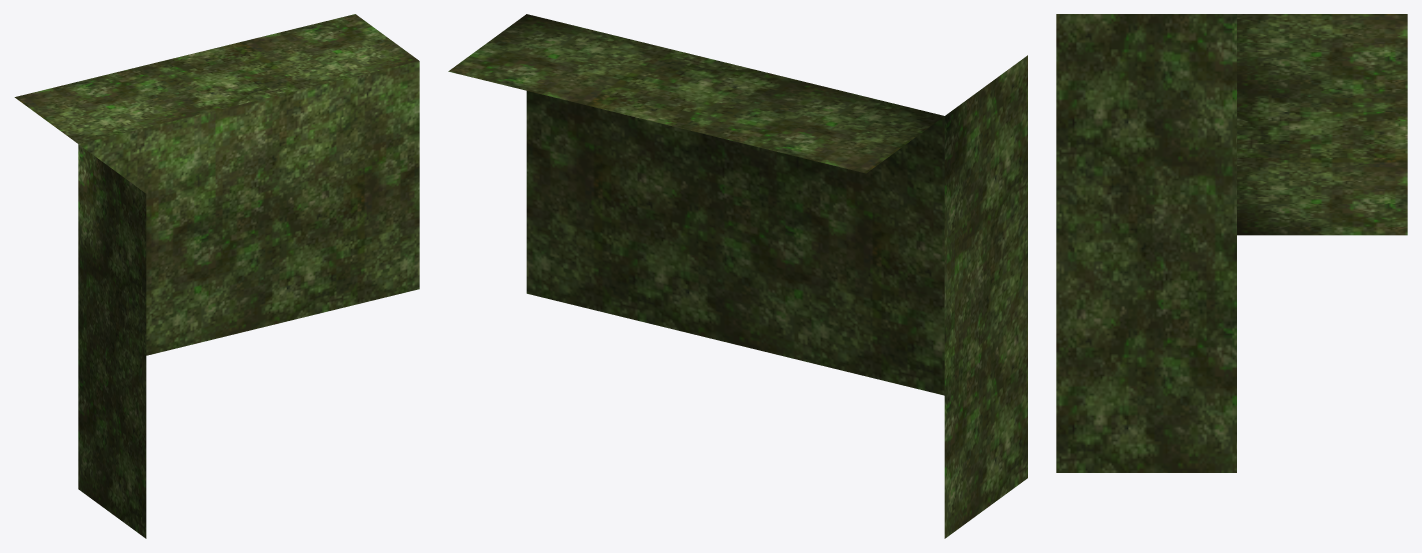
The model's file is OVERHILL_A_01_OBJECT80.fbx.
3 views of the same model, side by side, from view 1: azimuth 30°, elevation 25°; view 2: azimuth 150°, elevation 25°; view 3: azimuth 270°, elevation 25° (orthographic). The views are drawn at different scales.
Parts seen in each view (by area): view 1: OVERHILL_A_01_OBJECT80; view 2: OVERHILL_A_01_OBJECT80; view 3: OVERHILL_A_01_OBJECT80.
Boxes of the visible parts, x1,y1,x2,y2 form: OVERHILL_A_01_OBJECT80: [14, 14, 419, 538]; OVERHILL_A_01_OBJECT80: [448, 14, 1027, 538]; OVERHILL_A_01_OBJECT80: [1056, 14, 1407, 472].
Bounding box in the file's own units: 48951 × 47322 × 32795.
1 material, 1 textured.
